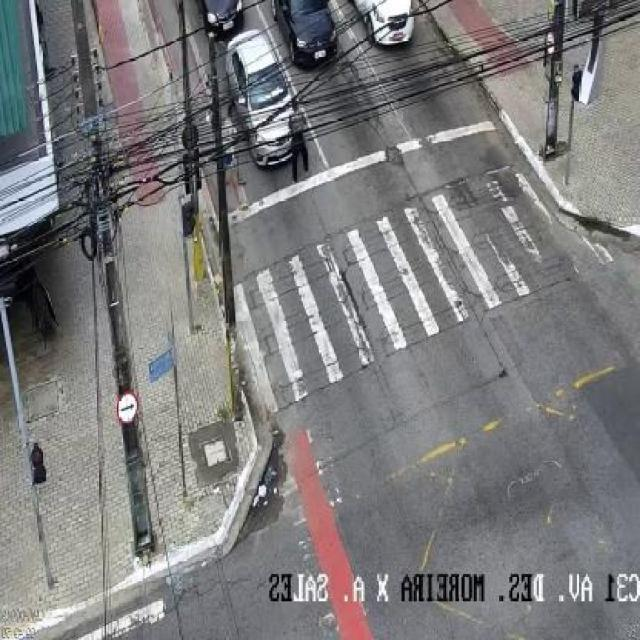Car: (219, 36, 308, 172), (275, 0, 341, 71), (195, 0, 251, 36)
